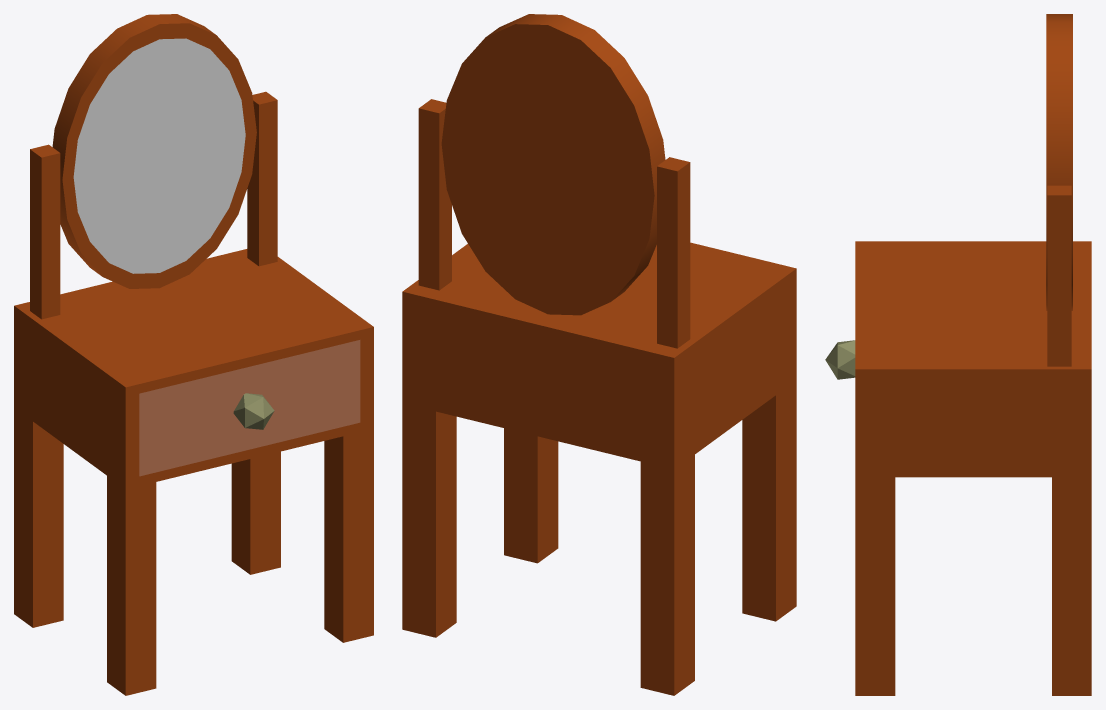
File: Dresser.fbx
3 renders of one model, left to right at view 1: azimuth 30°, elevation 25°; view 2: azimuth 150°, elevation 25°; view 3: azimuth 270°, elevation 25°, orthographic. The views are drawn at different scales.
Parts seen in each view (by area): view 1: Dresser; view 2: Dresser; view 3: Dresser.
Boxes of the visible parts, box(x1,y1,x2,y2) form: Dresser: box(14, 14, 373, 695); Dresser: box(402, 14, 796, 695); Dresser: box(825, 14, 1091, 695).
Size of the model in its own units: 0.0217 by 0.0482 by 0.0191.
